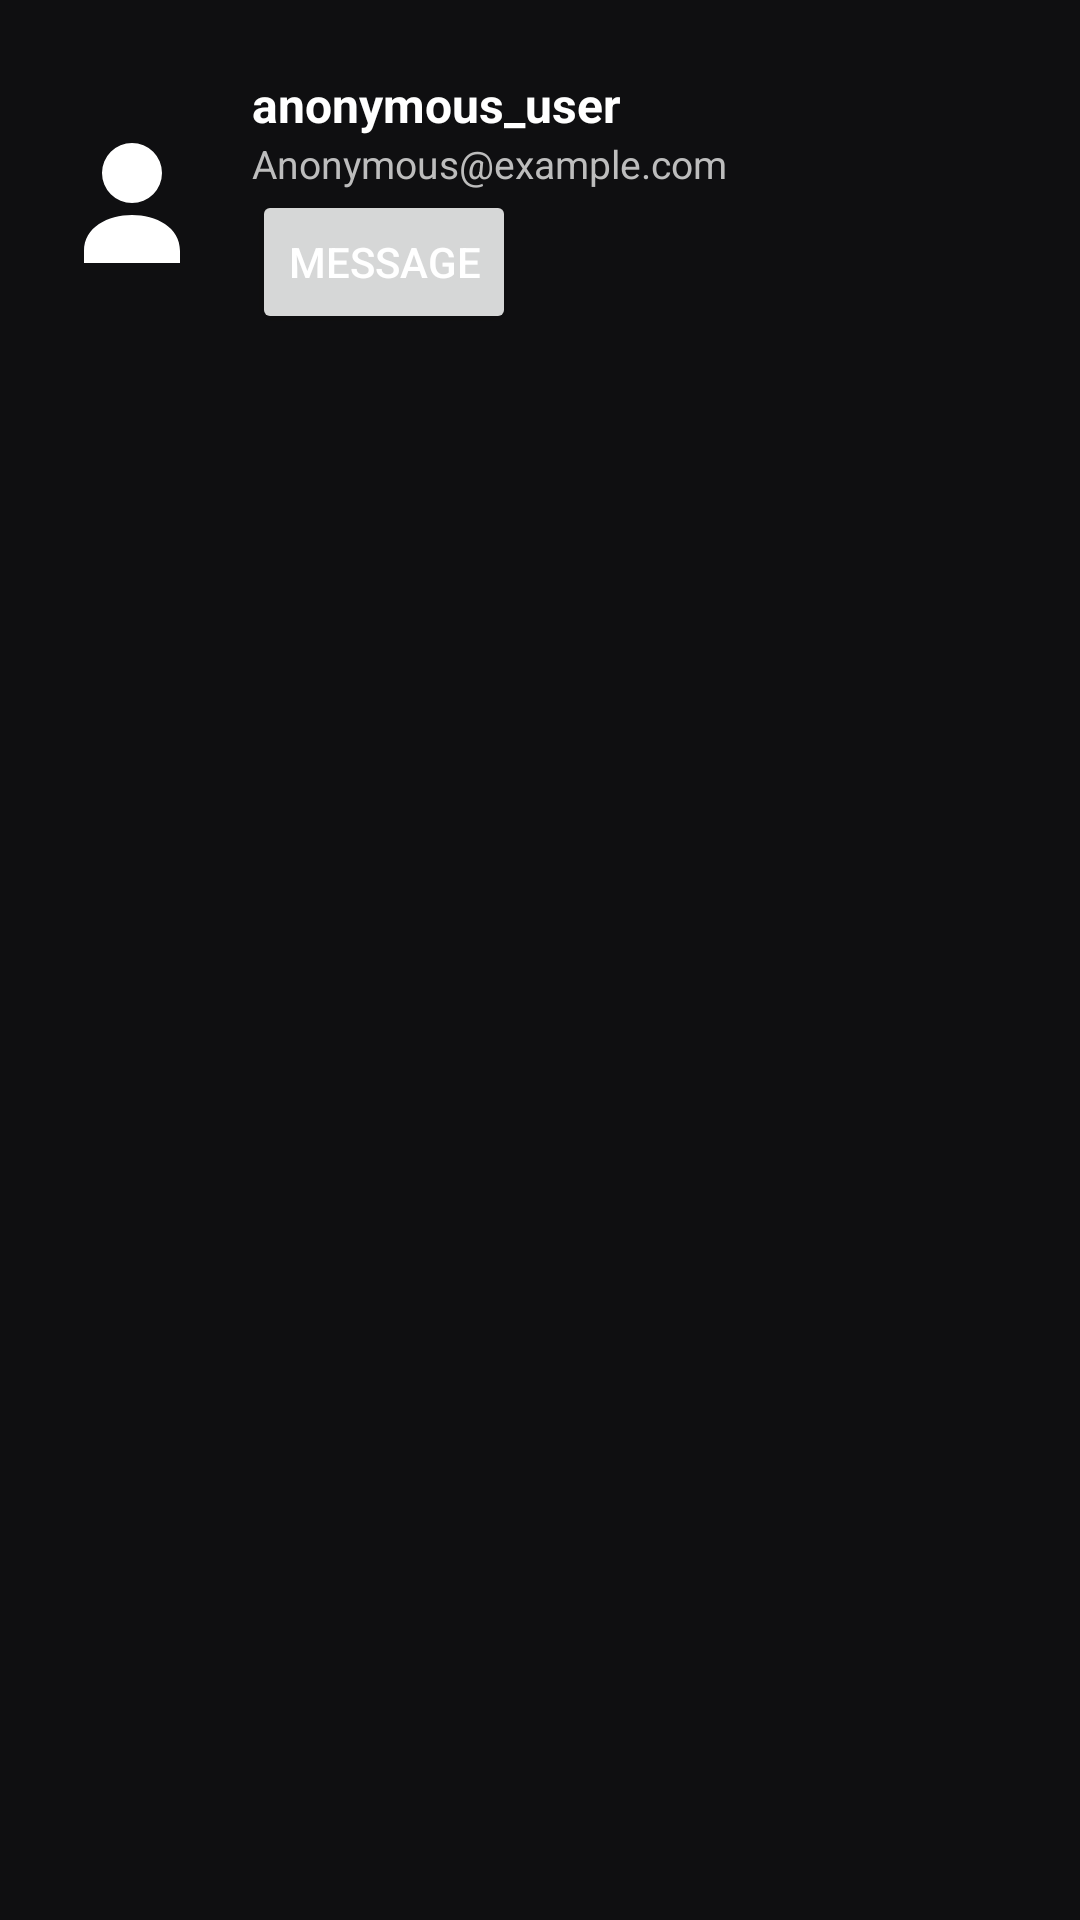

Icon click points for this 1080w x 1920h phone screenshot, format point (x, y):
User avatar: point (132, 203)
